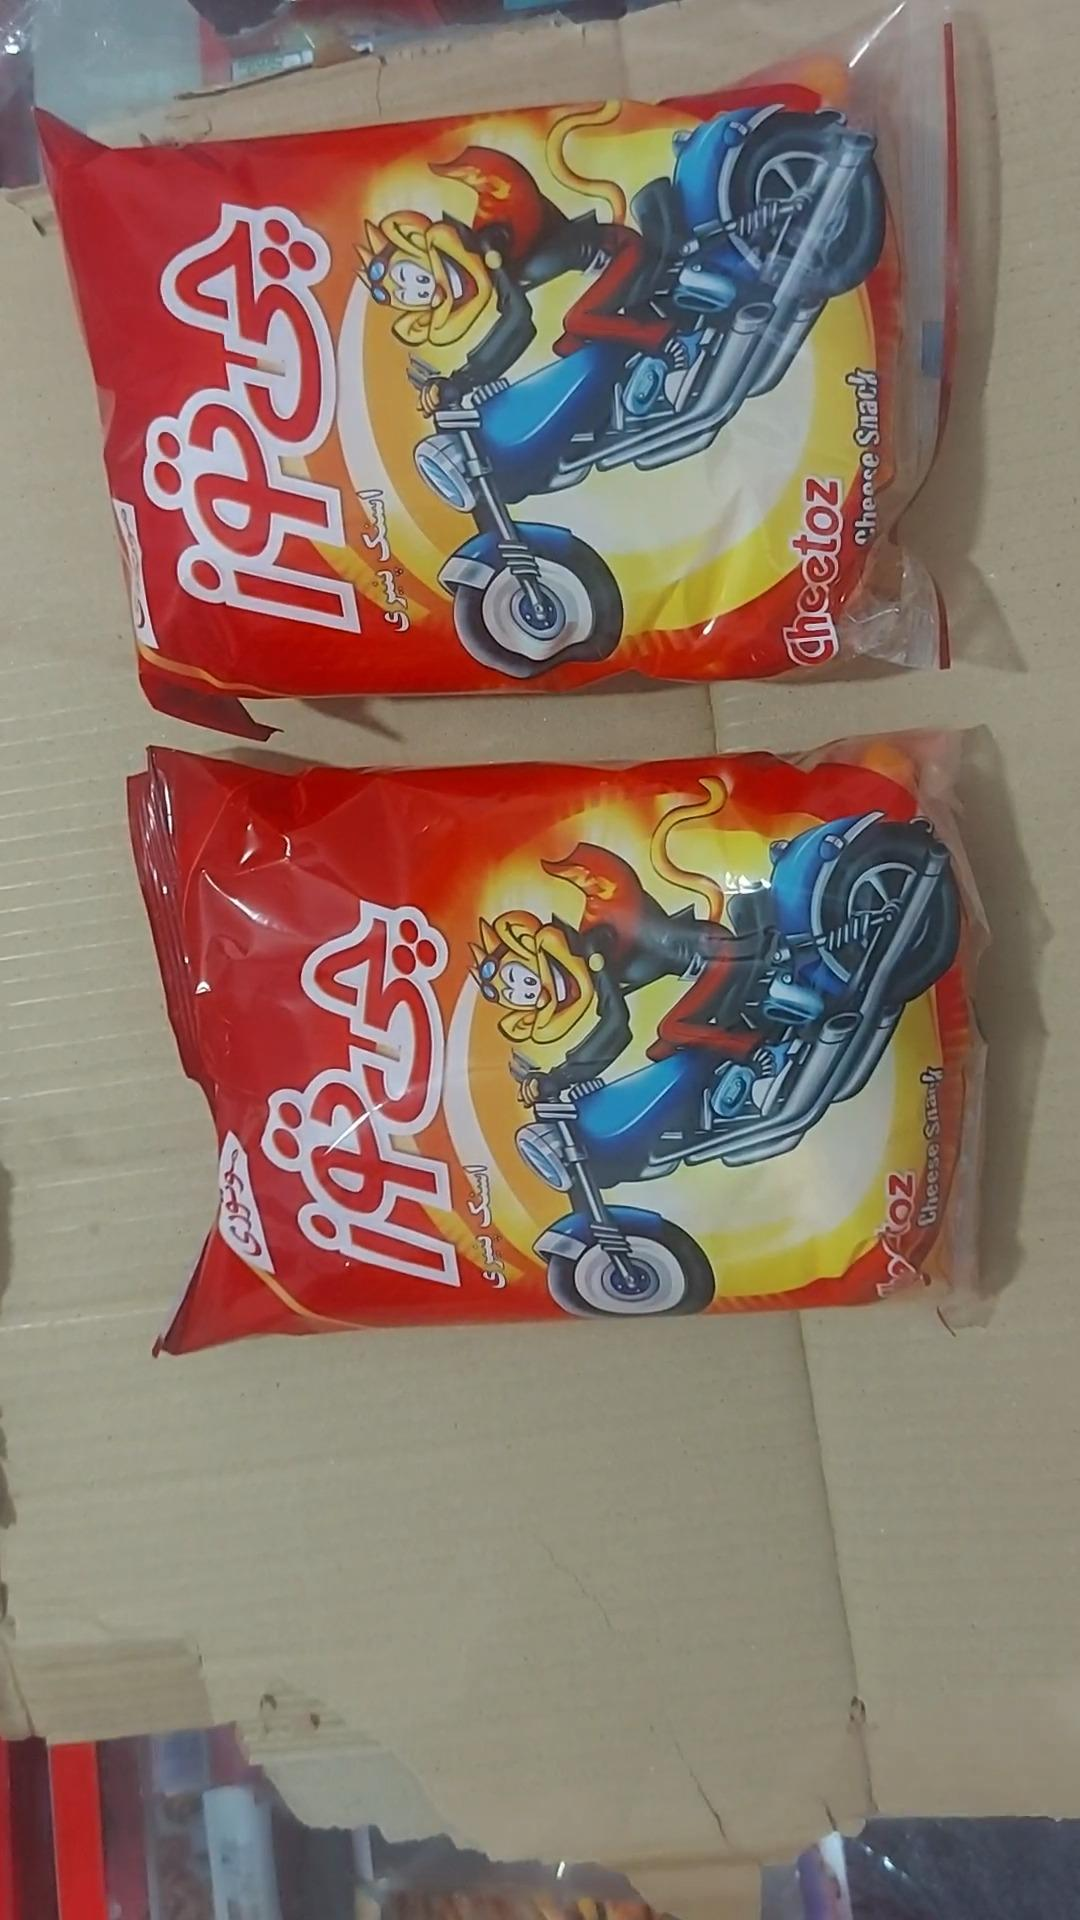Cheetoz snack 90g: (36, 0, 957, 745), (127, 729, 989, 1360)
